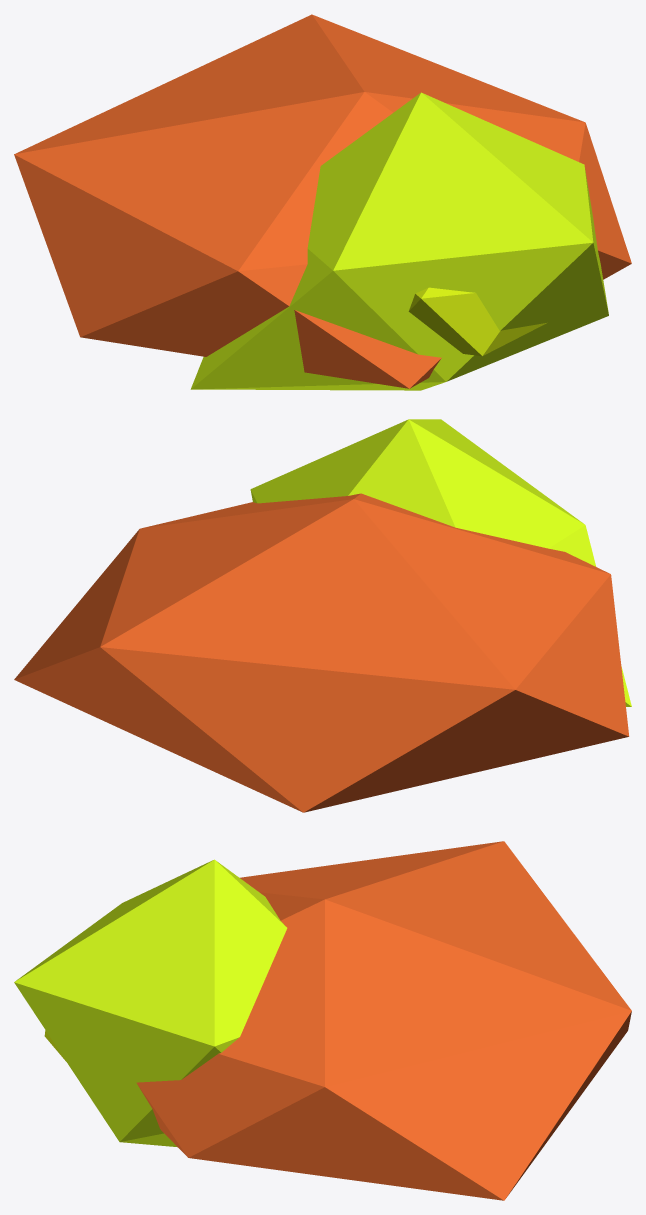
Rendered from rocks.glb.
3 views of the same model, one above another, from view 1: azimuth 30°, elevation 25°; view 2: azimuth 150°, elevation 25°; view 3: azimuth 270°, elevation 25° (orthographic). The views are drawn at different scales.
Parts seen in each view (by area): view 1: Rock_Large, Rock_Medium, Rock_Small; view 2: Rock_Large, Rock_Medium; view 3: Rock_Large, Rock_Medium.
Part boxes in pixels (<box>): Rock_Large: <box>14,14,631,388</box>; Rock_Medium: <box>190,92,608,390</box>; Rock_Small: <box>408,287,547,356</box>; Rock_Large: <box>14,493,629,812</box>; Rock_Medium: <box>250,419,631,706</box>; Rock_Large: <box>136,841,631,1200</box>; Rock_Medium: <box>14,859,287,1147</box>.
Size of the model in its own units: 1.25 by 0.6539 by 1.26.
